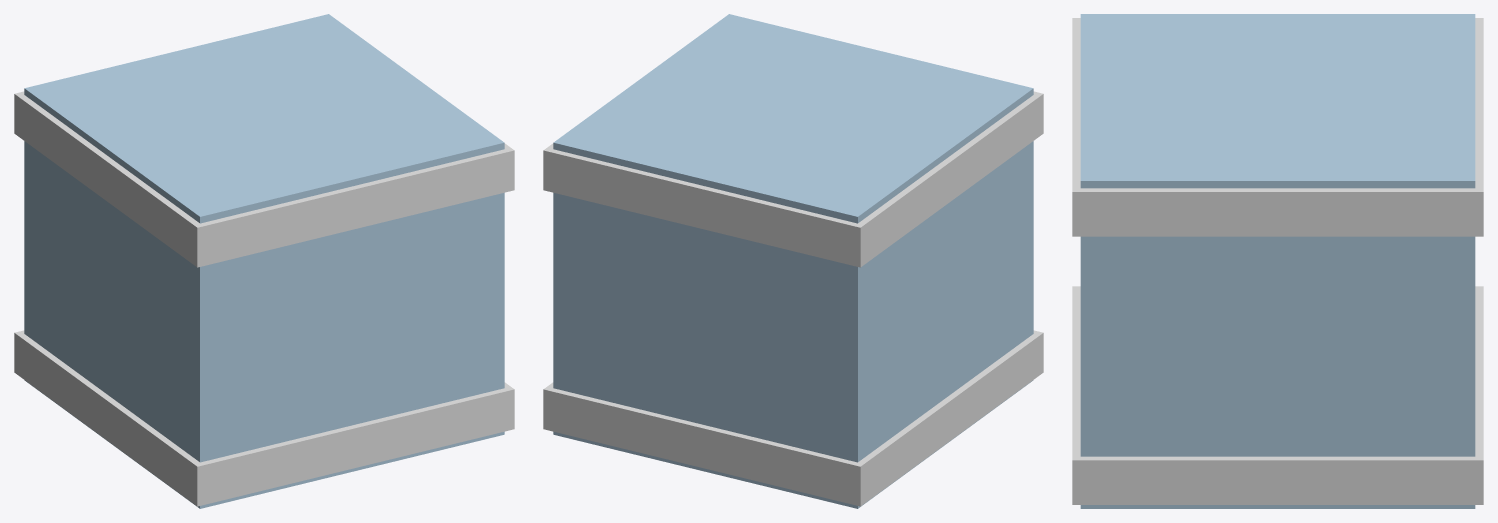
Rendered from frozen_crate.glb.
3 renders of one model, left to right at view 1: azimuth 30°, elevation 25°; view 2: azimuth 150°, elevation 25°; view 3: azimuth 270°, elevation 25°, orthographic. The views are drawn at different scales.
Parts seen in each view (by area): view 1: frozen_crate_v0; view 2: frozen_crate_v0; view 3: frozen_crate_v0.
Boxes of the visible parts, <box> form: frozen_crate_v0: <box>14,14,514,508</box>; frozen_crate_v0: <box>543,14,1043,508</box>; frozen_crate_v0: <box>1072,14,1483,508</box>.
Size of the model in its own units: 0.25 by 0.22 by 0.25.
